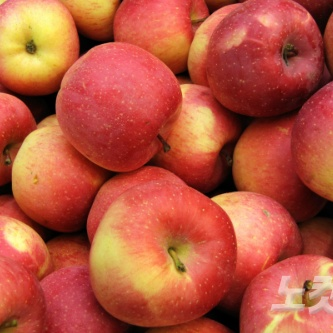apple: (90, 179, 239, 323), (57, 44, 181, 170), (205, 1, 325, 112), (194, 187, 300, 307), (228, 109, 328, 224), (13, 106, 103, 231), (151, 77, 236, 192), (239, 254, 333, 331), (1, 1, 81, 90), (290, 79, 333, 206), (37, 264, 110, 333), (1, 94, 39, 184), (1, 260, 47, 332), (1, 220, 56, 276), (66, 1, 130, 41)
